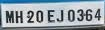character: (4, 10, 14, 24), (14, 10, 24, 24), (46, 8, 55, 23), (34, 9, 43, 23), (55, 9, 64, 23), (26, 10, 35, 23), (76, 8, 84, 22), (67, 9, 75, 22), (84, 8, 92, 21), (94, 8, 102, 20)
